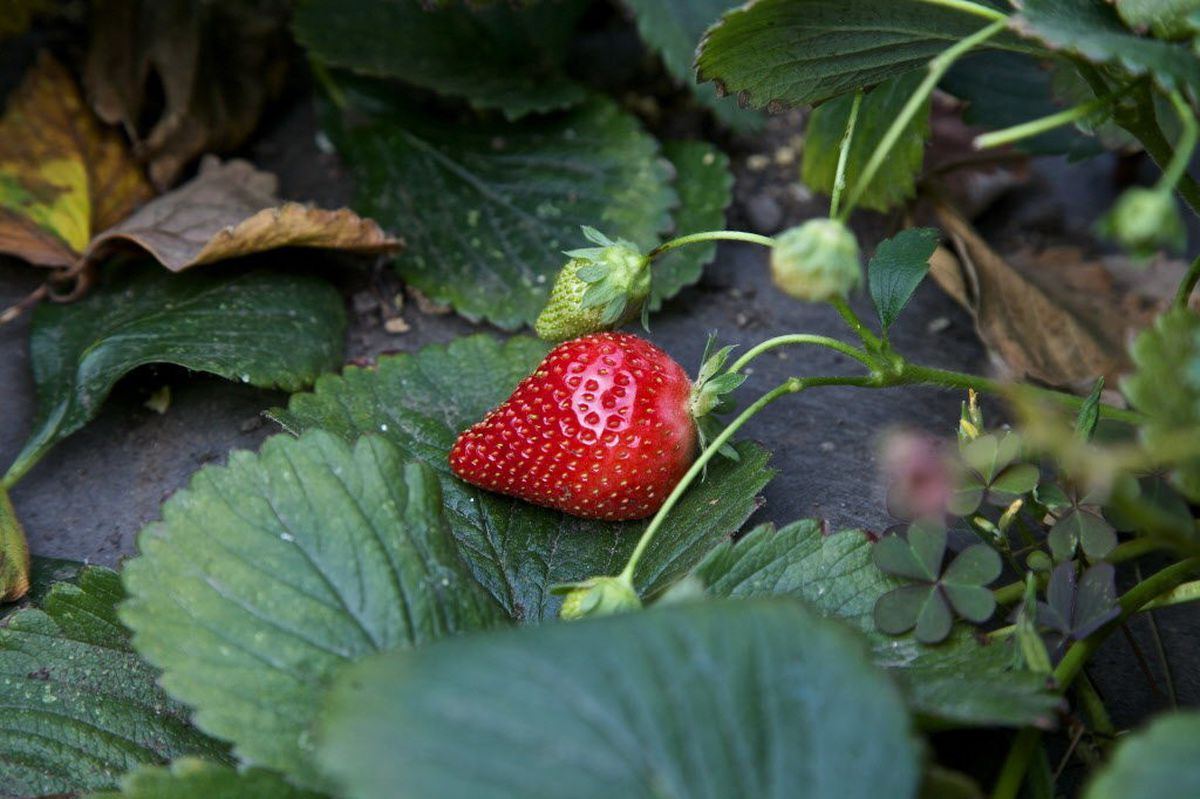ripe_strawberry: (448, 333, 702, 526)
unripe_strawberry: (534, 238, 652, 343), (560, 577, 637, 621)
